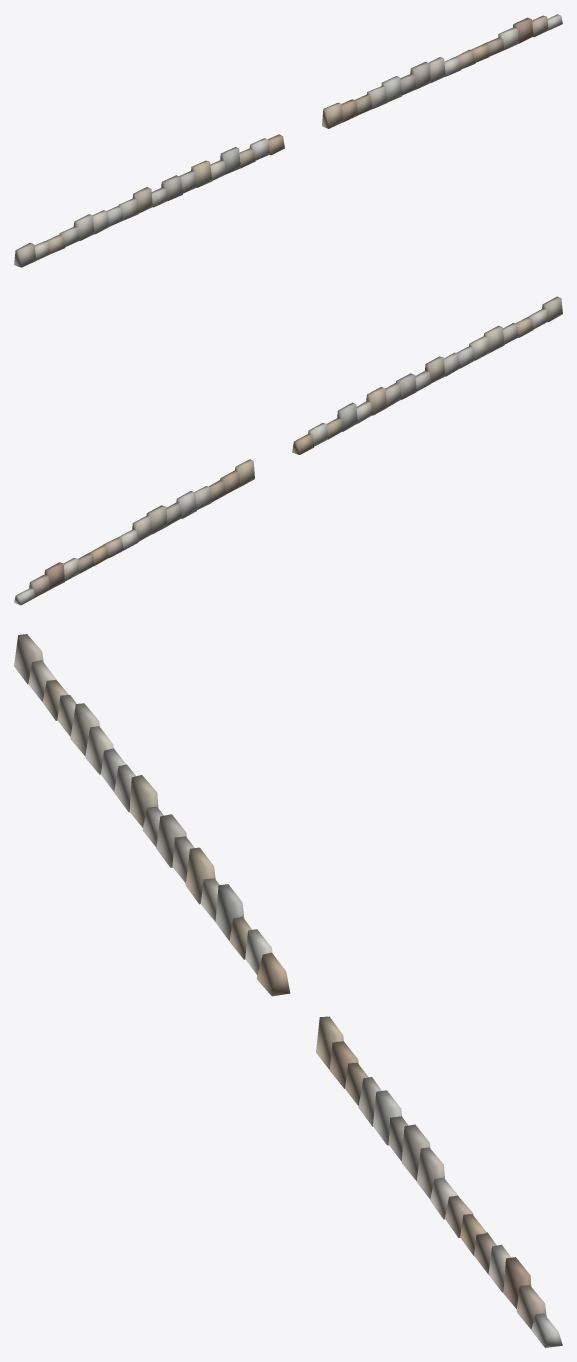
Rendered from farm_15_8_far.glb.
3 renders of one model, top to bottom at view 1: azimuth 30°, elevation 25°; view 2: azimuth 210°, elevation 25°; view 3: azimuth 270°, elevation 25°, orthographic. The views are drawn at different scales.
Visible parts, largest first — view 1: geometry_0; view 2: geometry_0; view 3: geometry_0.
Boxes of the visible parts, x1,y1,x2,y2 form: geometry_0: (14, 14, 562, 267); geometry_0: (14, 296, 562, 605); geometry_0: (14, 634, 562, 1347).
Size of the model in its own units: 54.82 by 3.04 by 19.9.
